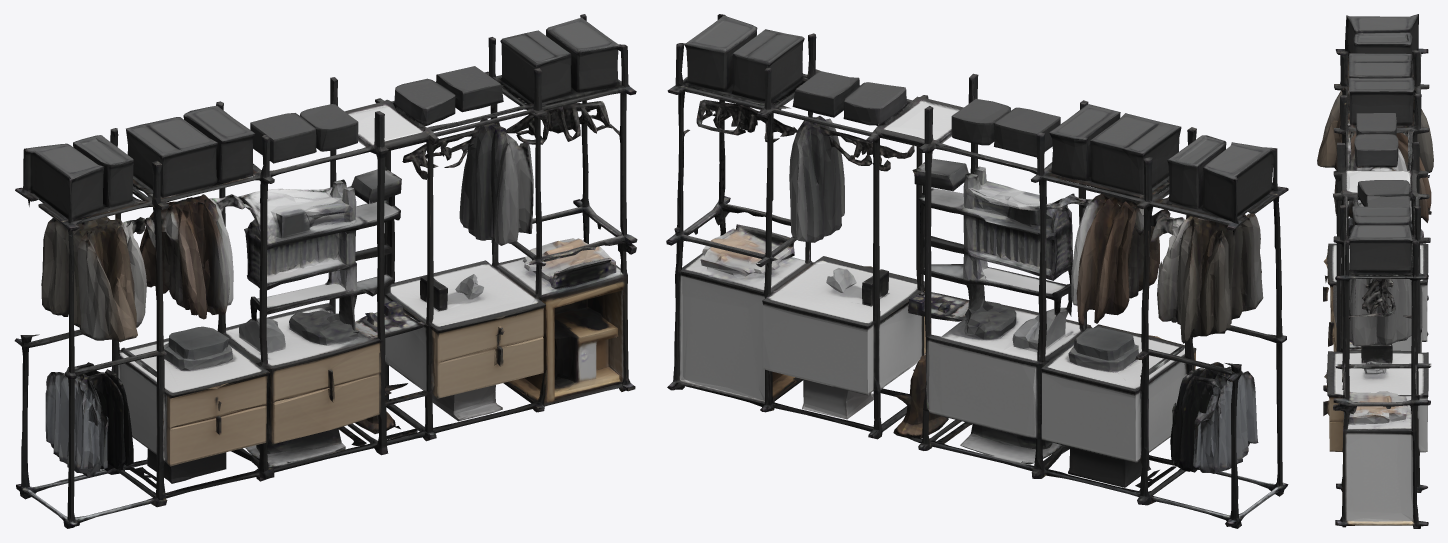
3 views of the same model, side by side, from view 1: azimuth 30°, elevation 25°; view 2: azimuth 150°, elevation 25°; view 3: azimuth 270°, elevation 25° (orthographic). The views are drawn at different scales.
Parts seen in each view (by area): view 1: world; view 2: world; view 3: world.
Boxes of the visible parts, x1,y1,x2,y2 form: world: (14,14,637,528); world: (666,14,1288,528); world: (1317,14,1433,528).
Bounding box in the file's own units: 1 × 0.586 × 0.2148.
Materials: 1 (1 with a texture image).
